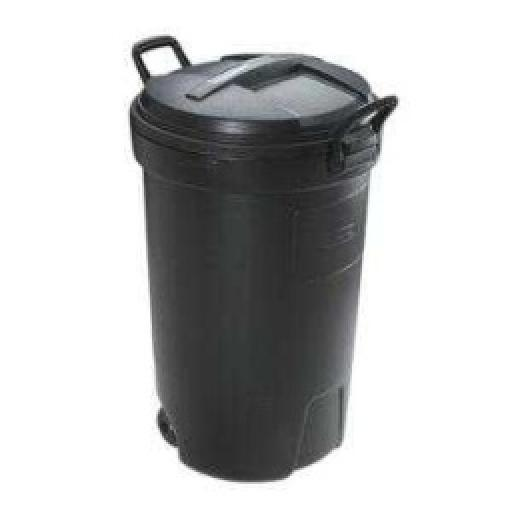trash-can: (102, 22, 412, 510)
